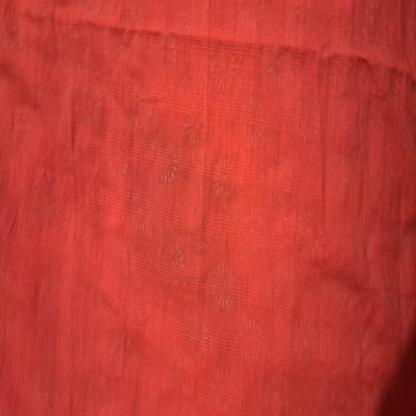spot: (212, 143, 240, 217), (280, 212, 290, 228), (194, 130, 200, 146), (190, 200, 196, 211)
